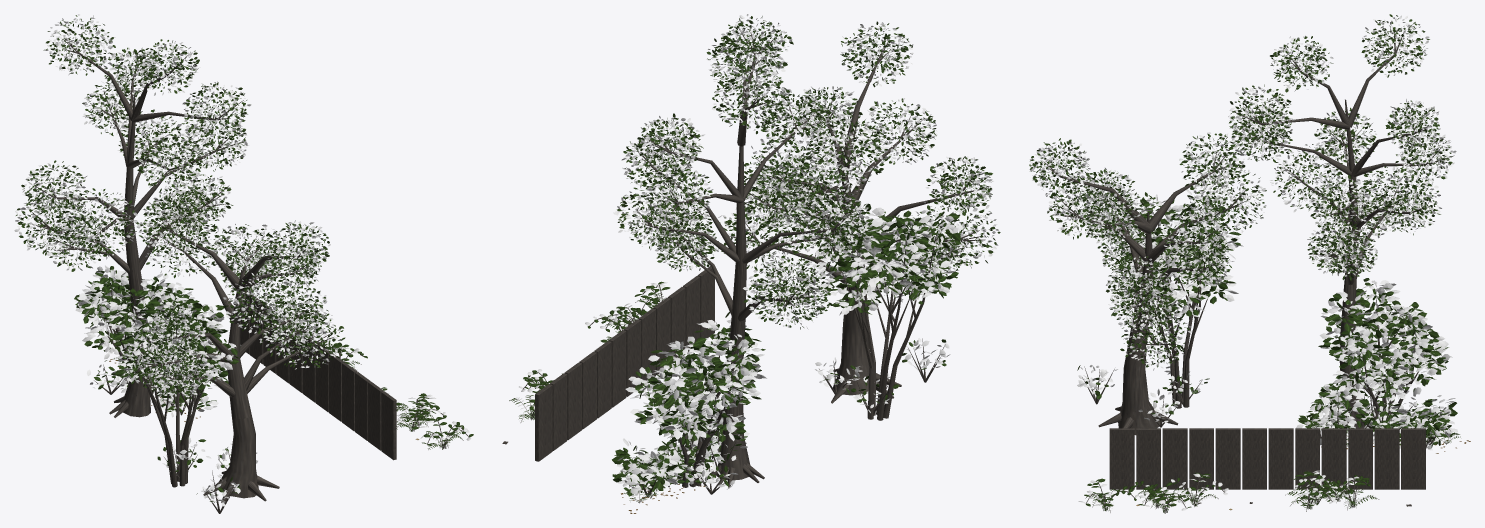
File: SM_Env_Tile_m3_m1.fbx
The picture shows the model from 3 angles, left to right: view 1: azimuth 30°, elevation 25°; view 2: azimuth 150°, elevation 25°; view 3: azimuth 270°, elevation 25°; orthographic projection. The views are drawn at different scales.
Visible parts, largest first — view 1: SM_Env_Tile_m3_m1; view 2: SM_Env_Tile_m3_m1; view 3: SM_Env_Tile_m3_m1.
Boxes of the visible parts, x1=… form: SM_Env_Tile_m3_m1: x1=14, y1=14, x2=473, y2=513; SM_Env_Tile_m3_m1: x1=502, y1=14, x2=1000, y2=513; SM_Env_Tile_m3_m1: x1=1029, y1=14, x2=1470, y2=513.
Size of what is drawn, in the model's own units: 1484 by 1668 by 1633.
9 materials, 4 textured.
